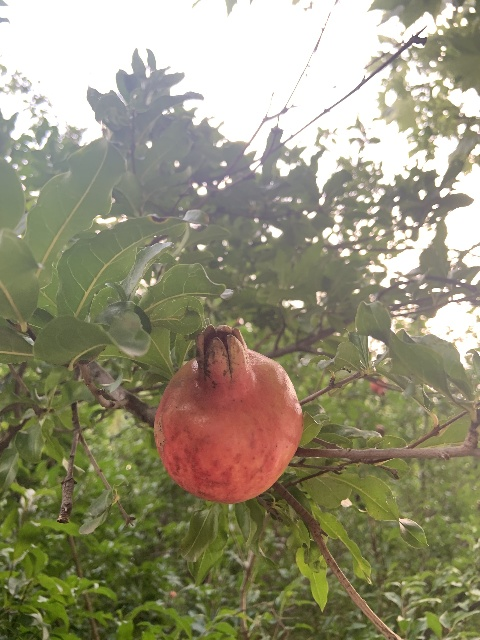early-fruit: (176, 0, 293, 16)
ripe: (153, 324, 303, 504)
